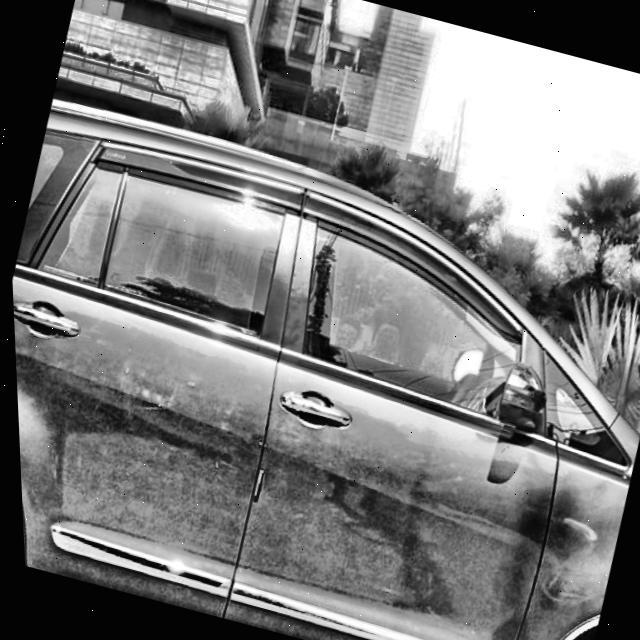light_vehicle: (3, 91, 640, 640)
